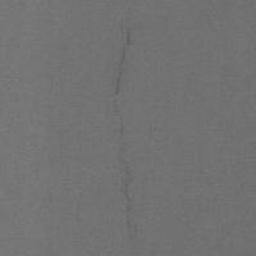Inclusion: (118, 157, 142, 251), (114, 26, 133, 95), (120, 125, 125, 138)
